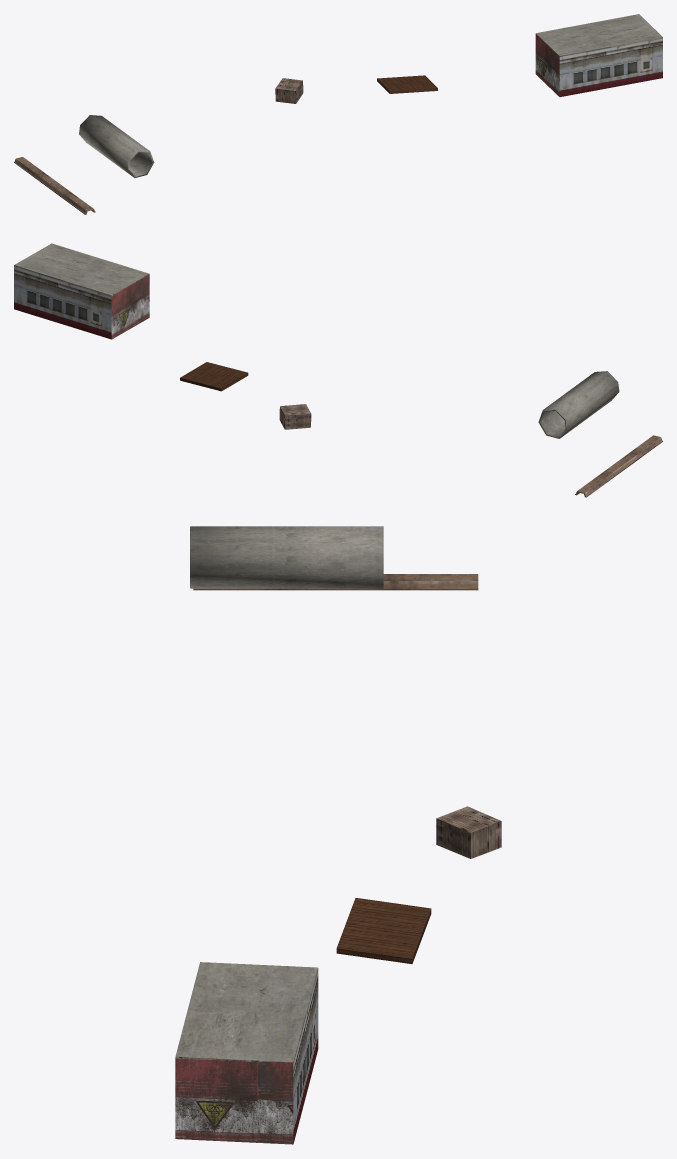
Rendered from CONSTRUCTION  props.fbx.
The picture shows the model from 3 angles, top to bottom: view 1: azimuth 30°, elevation 25°; view 2: azimuth 150°, elevation 25°; view 3: azimuth 270°, elevation 25°; orthographic projection. The views are drawn at different scales.
Visible parts, largest first — view 1: Cube, model_0.003, model_0.004, model_0.002, model_0.001; view 2: Cube, model_0.003, model_0.002, model_0.004, model_0.001; view 3: Cube, model_0.003, model_0.002, model_0.001, model_0.004.
Part boxes in pixels (bbox=[...]): Cube: bbox=[535, 14, 662, 96]; model_0.003: bbox=[79, 115, 154, 177]; model_0.004: bbox=[14, 157, 95, 214]; model_0.002: bbox=[377, 75, 437, 93]; model_0.001: bbox=[275, 78, 303, 103]; Cube: bbox=[14, 243, 149, 339]; model_0.003: bbox=[538, 371, 619, 438]; model_0.002: bbox=[180, 362, 248, 391]; model_0.004: bbox=[575, 435, 662, 497]; model_0.001: bbox=[279, 404, 311, 429]; Cube: bbox=[175, 962, 318, 1144]; model_0.003: bbox=[190, 526, 383, 588]; model_0.002: bbox=[336, 898, 431, 963]; model_0.001: bbox=[436, 806, 501, 858]; model_0.004: bbox=[193, 574, 478, 590].
Size of the model in its own units: 429522 by 37143 by 104775.
